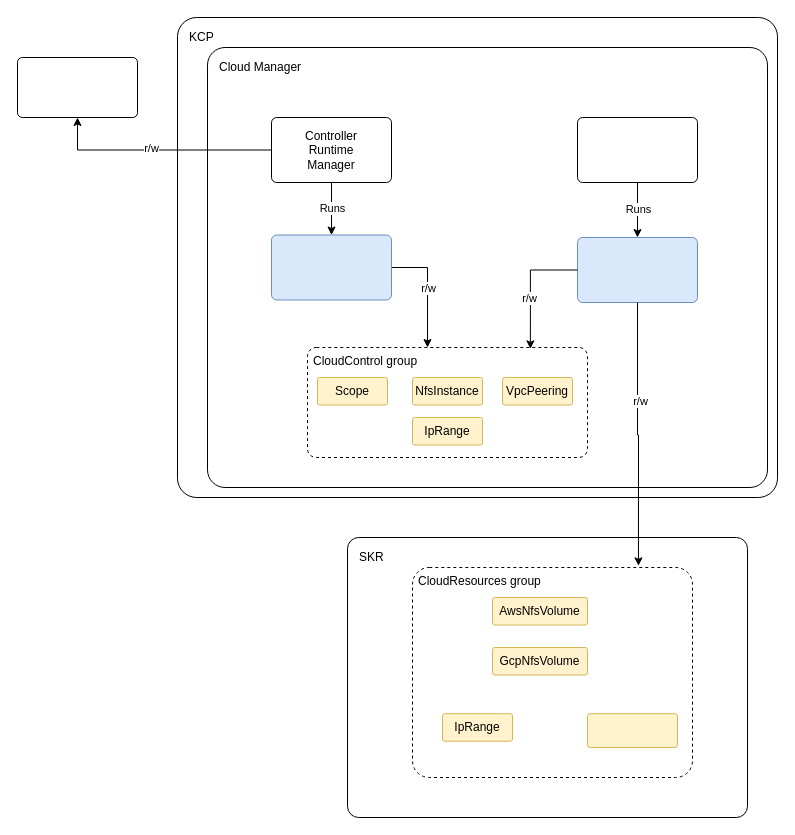
Some shapes in this 795 by 835 pixel diagram are drawn without their labels. Each missing label, with the centre of its shape:
"Cloud Provider" goes at pixel 77 87.
"CloudControl Reconcilers" goes at pixel 331 267.
"CloudResources Module CR" goes at pixel 632 730.
"CloudResources Reconcilers" goes at pixel 637 269.
"Custom Manager" goes at pixel 637 149.
